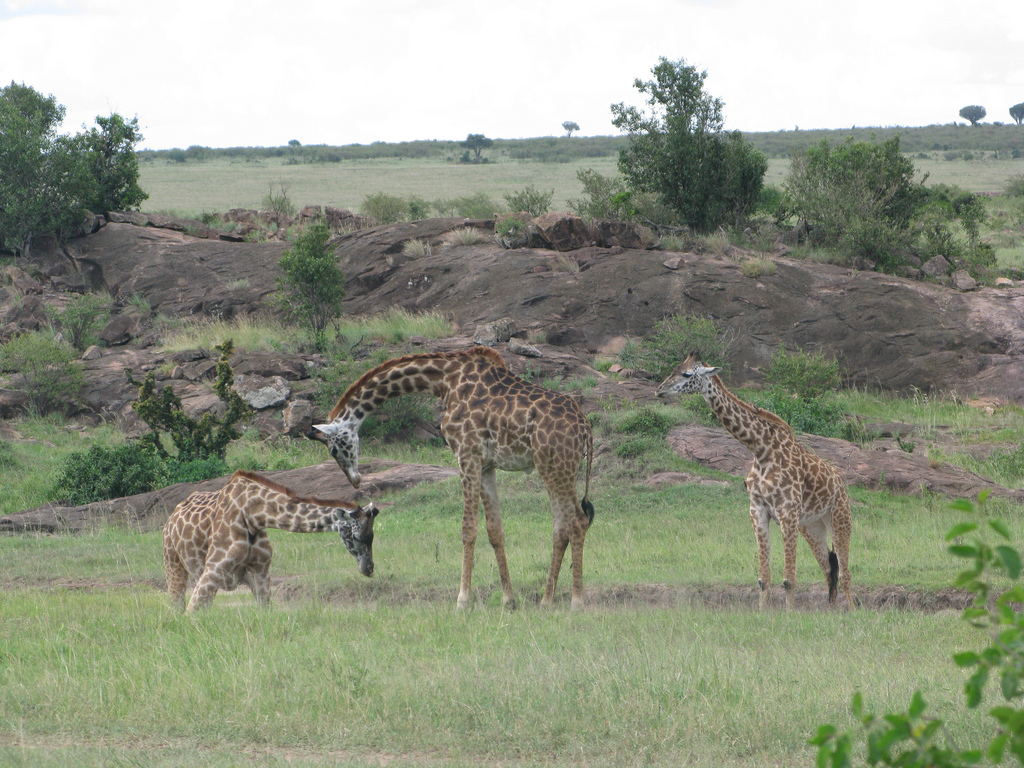giraffe: (313, 341, 629, 631), (649, 337, 873, 619), (135, 455, 442, 648)
